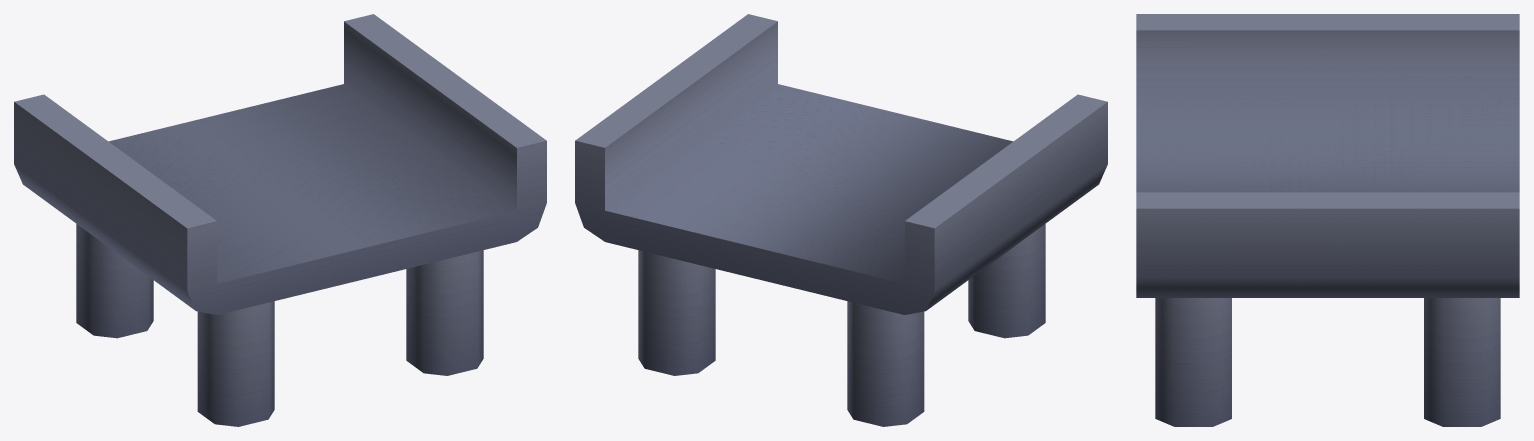
Rendered from support-four-top-col.glb.
3 views of the same model, side by side, from view 1: azimuth 30°, elevation 25°; view 2: azimuth 150°, elevation 25°; view 3: azimuth 270°, elevation 25° (orthographic). The views are drawn at different scales.
Parts seen in each view (by area): view 1: support-four-top-col; view 2: support-four-top-col; view 3: support-four-top-col.
Part boxes in pixels (x1,y1,x2,y2): support-four-top-col: (14, 14, 546, 426); support-four-top-col: (575, 14, 1107, 426); support-four-top-col: (1136, 14, 1519, 426).
Bounding box in the file's own units: 1.2 × 0.7 × 1.
Materials: 1 (1 with a texture image).
